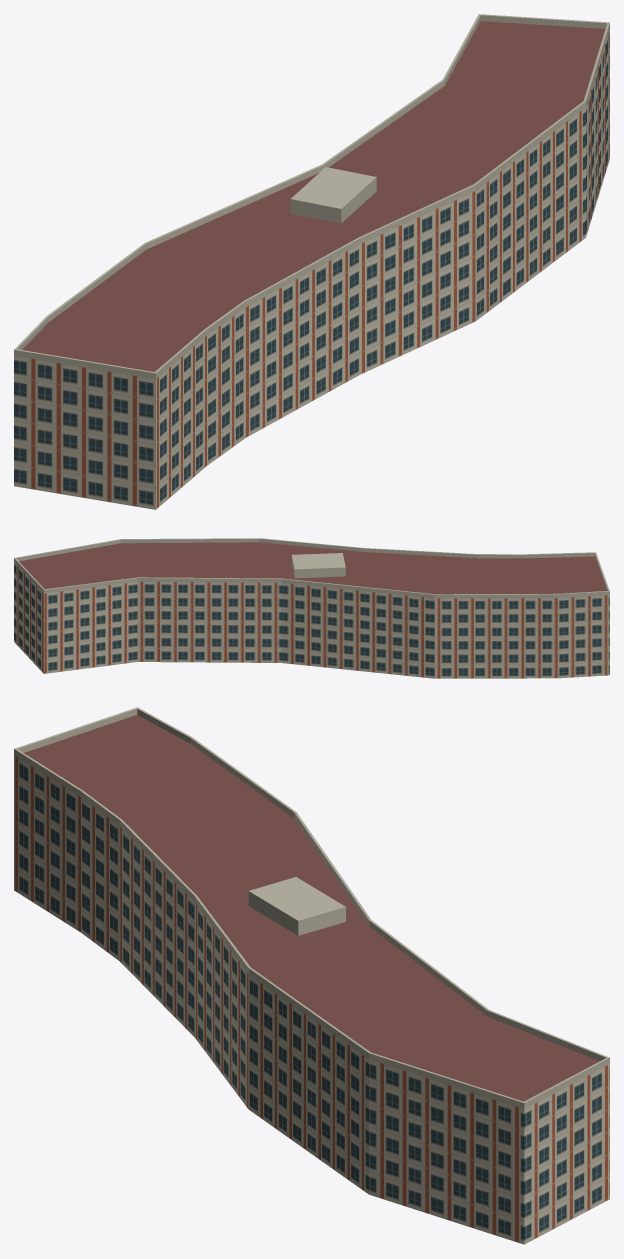
3 renders of one model, top to bottom at view 1: azimuth 30°, elevation 25°; view 2: azimuth 150°, elevation 25°; view 3: azimuth 270°, elevation 25°, orthographic. The views are drawn at different scales.
Visible parts, largest first — view 1: B11_dorm, B11_dorm_parapet, B11_dorm_plant; view 2: B11_dorm, B11_dorm_parapet, B11_dorm_plant; view 3: B11_dorm, B11_dorm_parapet, B11_dorm_plant.
Part boxes in pixels (x1,y1,x2,y2): B11_dorm: (14, 21, 609, 509); B11_dorm_parapet: (14, 14, 609, 378); B11_dorm_plant: (290, 167, 376, 223); B11_dorm: (14, 542, 609, 678); B11_dorm_parapet: (14, 538, 609, 598); B11_dorm_plant: (291, 553, 345, 578); B11_dorm: (14, 715, 609, 1244); B11_dorm_parapet: (14, 707, 609, 1108); B11_dorm_plant: (248, 877, 345, 935).
Bounding box in the file's own units: 113 × 20 × 71.76.
Materials: 3 (1 with a texture image).
